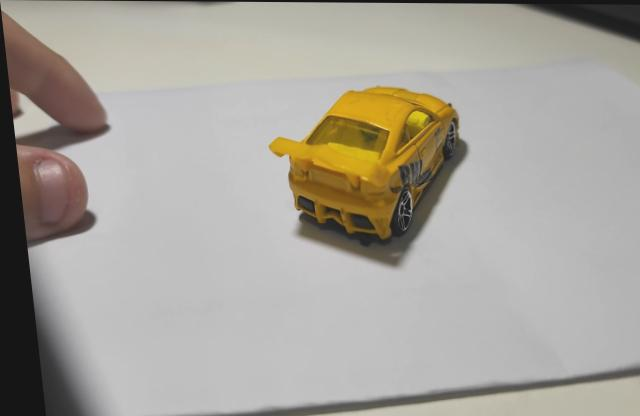07_RHLTURBO: (267, 86, 460, 242)
